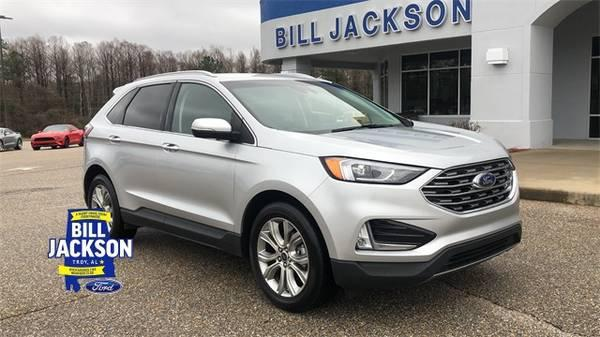Front_Bumper: (302, 166, 523, 284)
Front_Fender: (234, 145, 332, 256)
Front_Right_Door: (163, 135, 239, 254)
Front_Right_Window: (166, 82, 258, 145)
Front_Windshield: (223, 78, 409, 135)
Grille: (422, 156, 518, 213)
Hood: (254, 120, 506, 166)
Rear_Fender: (81, 90, 134, 176)
Rear_Right_Door: (91, 128, 168, 231)
Rear_Right_Window: (116, 83, 179, 134)
Right_Headlight: (319, 156, 428, 183)
Roof: (97, 71, 329, 135)
Wheel: (247, 201, 329, 309), (81, 177, 133, 245)
